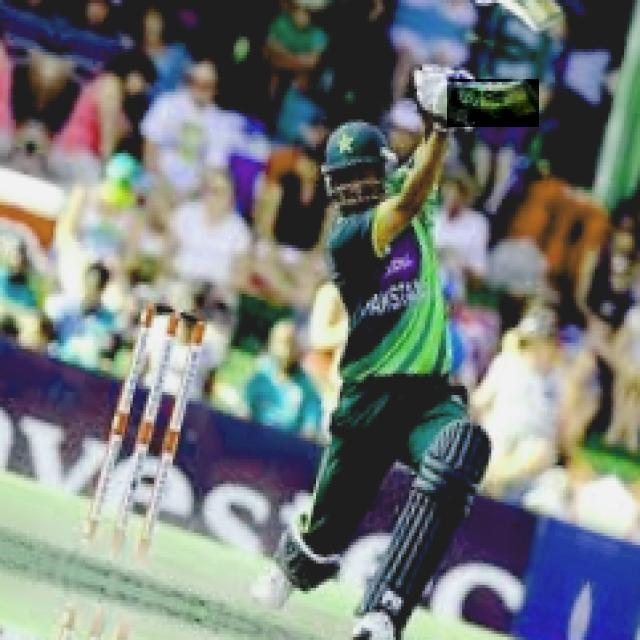bat: (448, 76, 544, 125)
toe: (527, 66, 545, 100)
